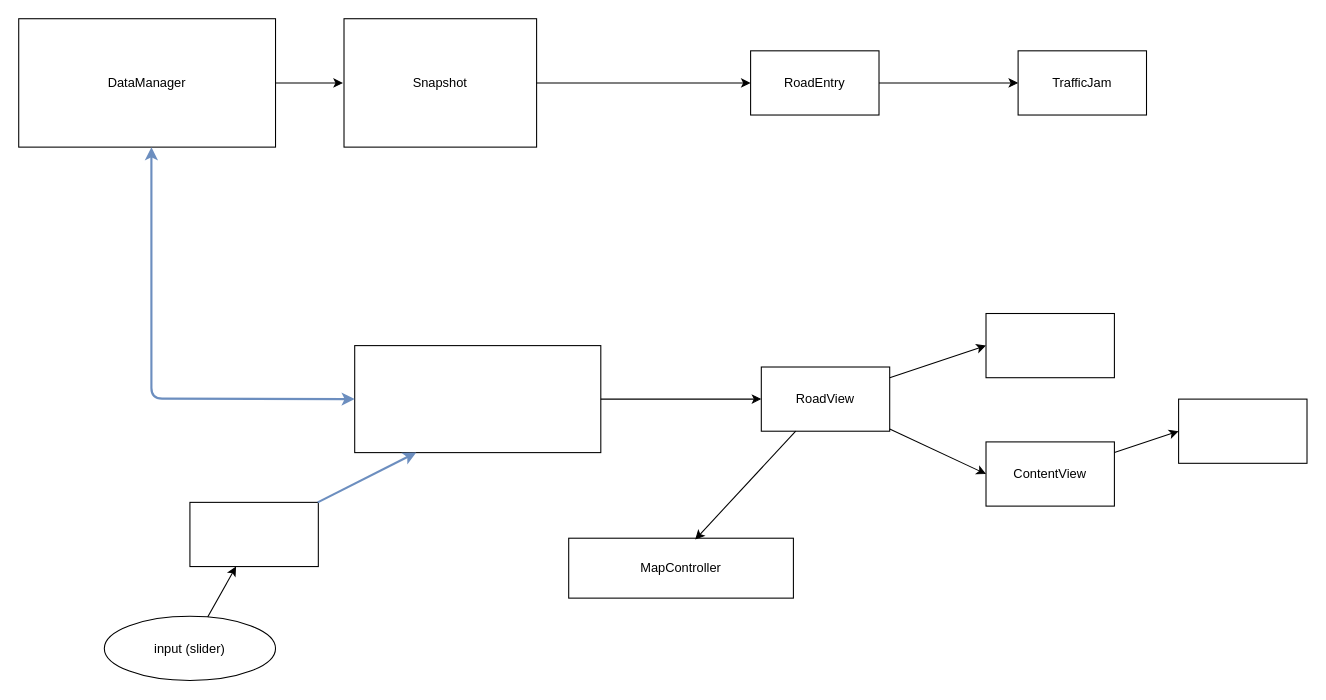
This 1326x700 diagram has some shape labels left out. Here are the shapes that lost their labels. From the top down, the centre of each, then its label:
At point 1049,345: "SideBarButton".
At point 477,399: "ViewController".
At point 1242,430: "ContentTable".
At point 253,534: "SnapshotSelector".
